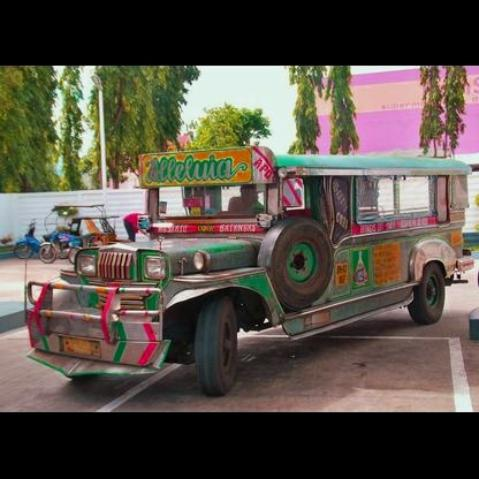jeepney: (18, 138, 472, 395)
